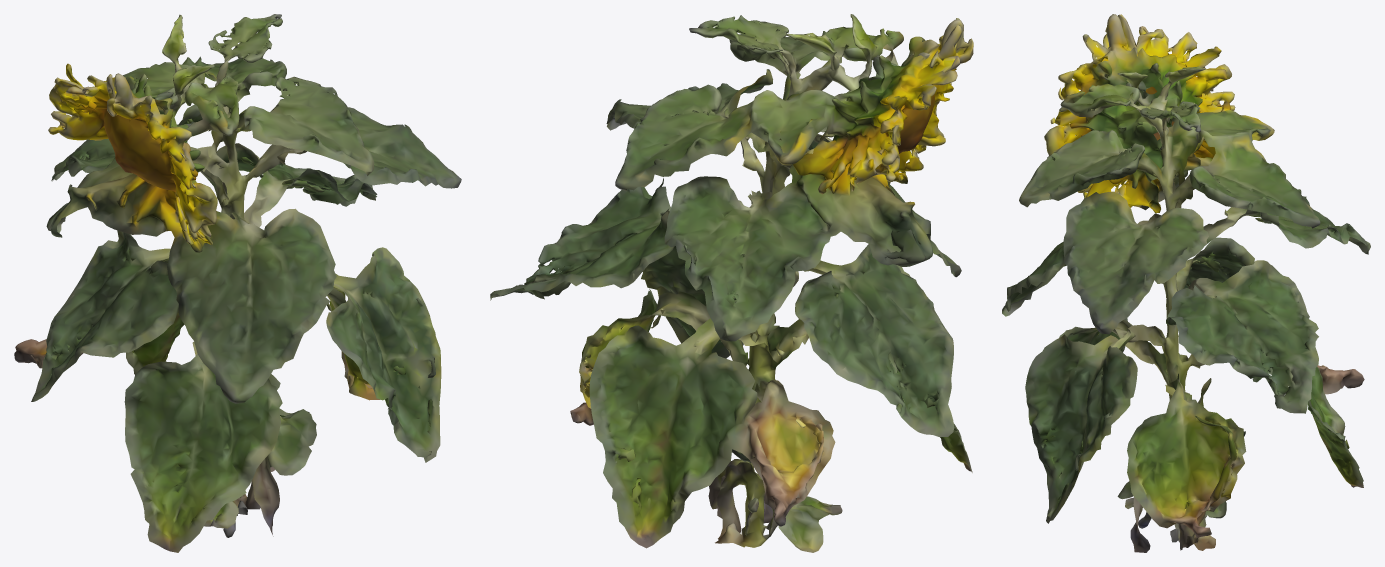
File: sunflower-mesh.glb
3 views of the same model, side by side, from view 1: azimuth 30°, elevation 25°; view 2: azimuth 150°, elevation 25°; view 3: azimuth 270°, elevation 25° (orthographic). The views are drawn at different scales.
Parts seen in each view (by area): view 1: sunflower; view 2: sunflower; view 3: sunflower.
Part boxes in pixels (x1,y1,x2,y2): sunflower: (14,14,461,552); sunflower: (490,14,973,552); sunflower: (1002,14,1370,552).
Size of the model in its own units: 0.7182 by 0.9192 by 0.6626.
